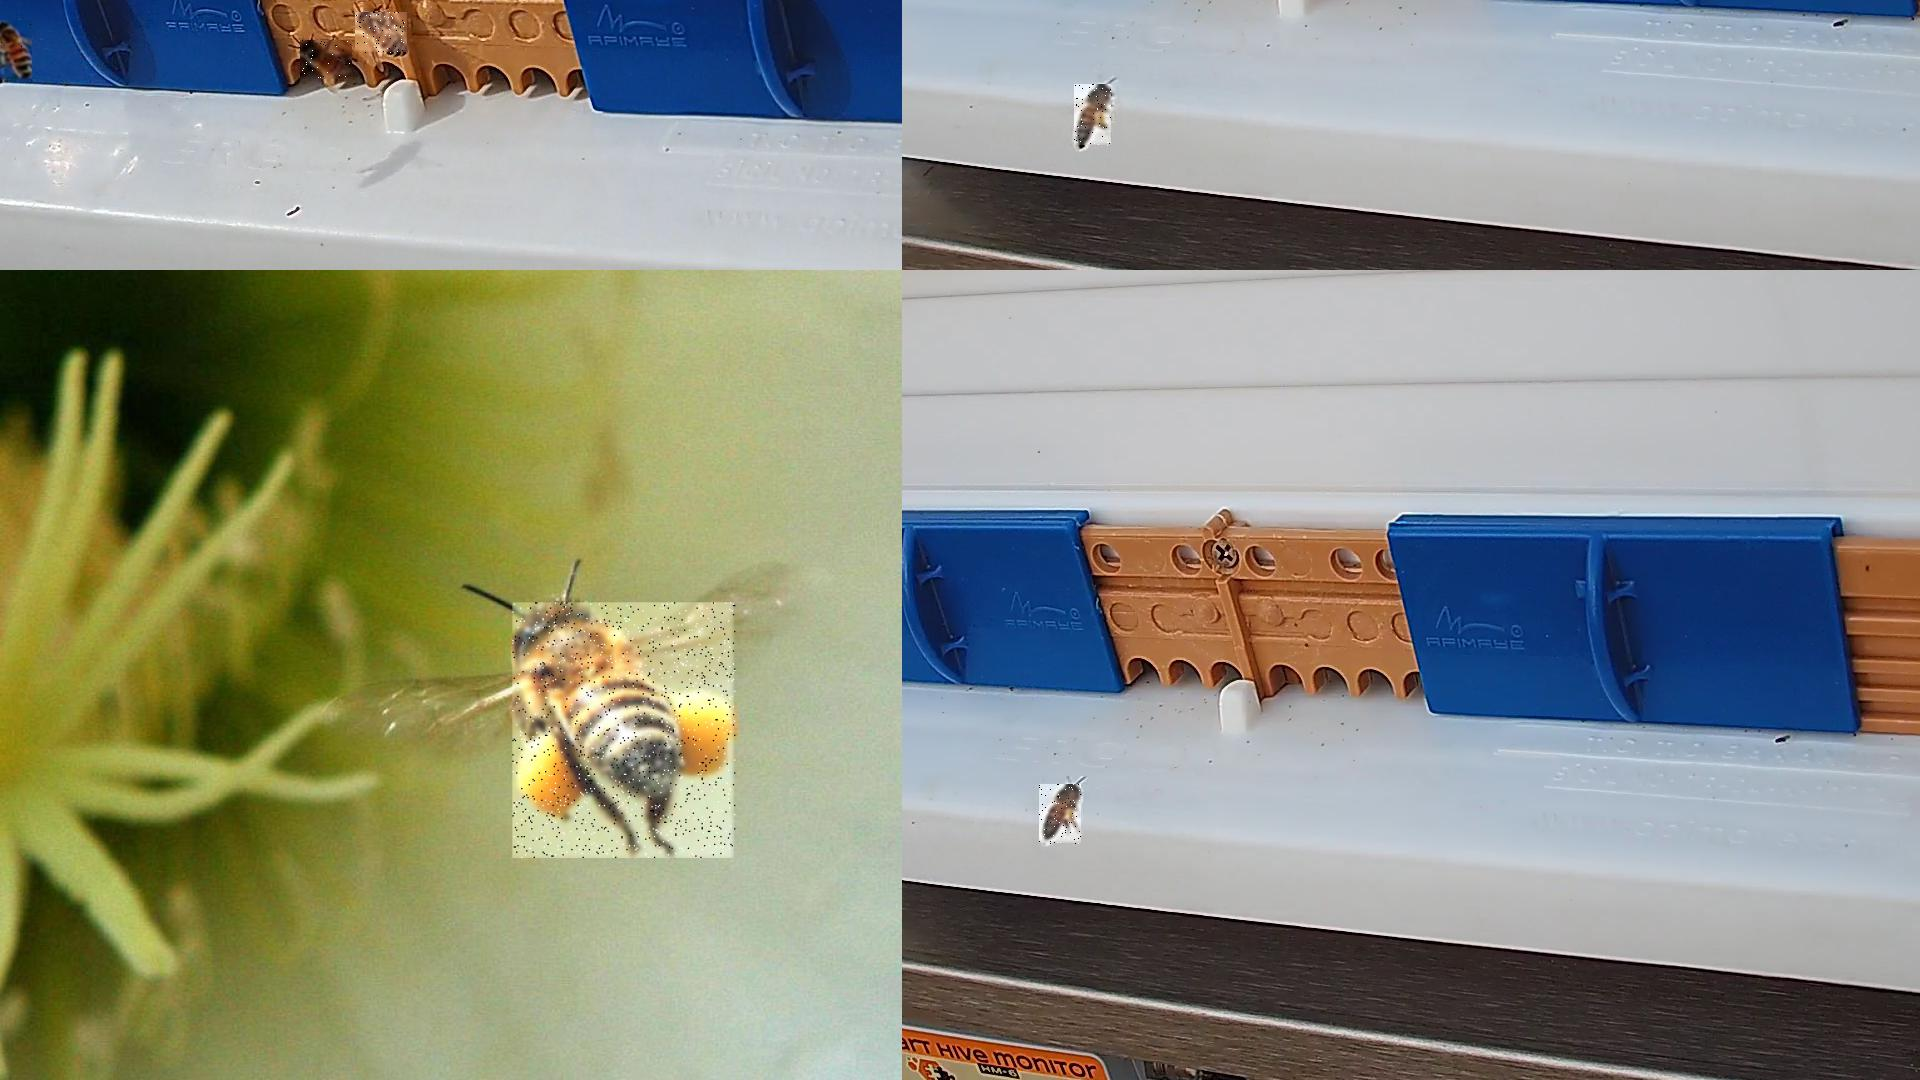bee: (0, 20, 34, 83), (301, 41, 353, 82)
pollenbee: (513, 603, 737, 860), (1039, 785, 1083, 845), (1075, 84, 1112, 148), (355, 13, 409, 55)
